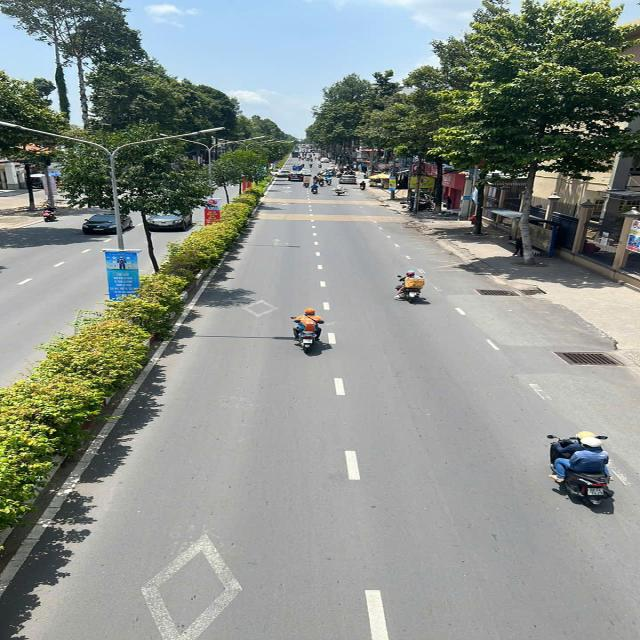XeDap: (336, 185, 342, 196)
car: (144, 200, 196, 232), (80, 212, 128, 242), (340, 175, 357, 185), (289, 173, 303, 181), (278, 170, 290, 177), (300, 170, 312, 176), (290, 164, 301, 170), (320, 158, 330, 162)
motobyte: (561, 431, 622, 509), (293, 308, 324, 357), (398, 268, 426, 304), (33, 203, 62, 226), (359, 181, 366, 191), (313, 175, 319, 185), (303, 178, 309, 188), (312, 185, 318, 194), (320, 178, 325, 186), (327, 178, 332, 185), (335, 172, 341, 177), (309, 164, 314, 168), (318, 164, 322, 168)
